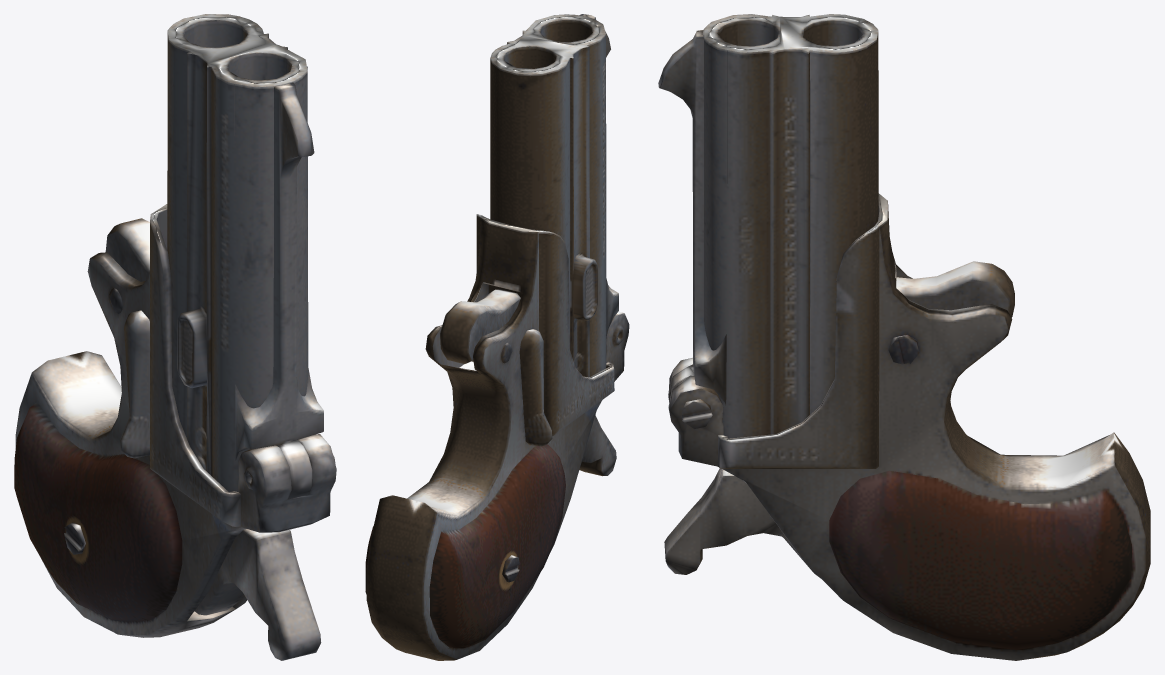
Rendered from Derringer.fbx.
3 renders of one model, left to right at view 1: azimuth 30°, elevation 25°; view 2: azimuth 150°, elevation 25°; view 3: azimuth 270°, elevation 25°, orthographic. The views are drawn at different scales.
Visible parts, largest first — view 1: Derringer.001; view 2: Derringer.001; view 3: Derringer.001.
Part boxes in pixels (x1,y1,x2,y2): Derringer.001: (14, 14, 336, 660); Derringer.001: (365, 14, 629, 660); Derringer.001: (658, 14, 1150, 660).
Bounding box in the file's own units: 0.0225 × 0.1188 × 0.0861.
